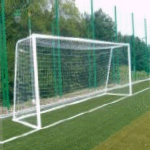goals: (9, 32, 134, 131)
